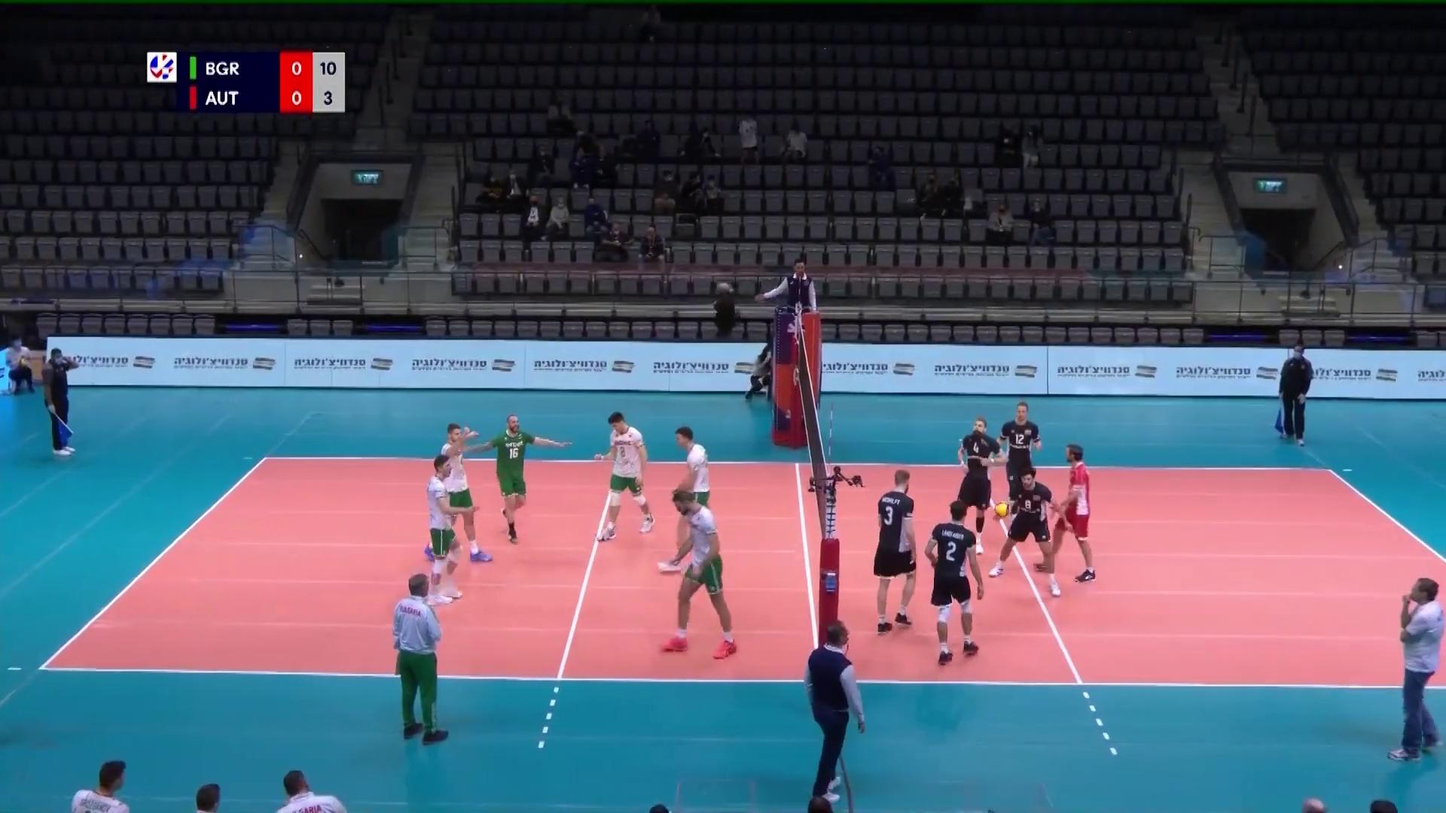ball: (994, 500, 1012, 519)
